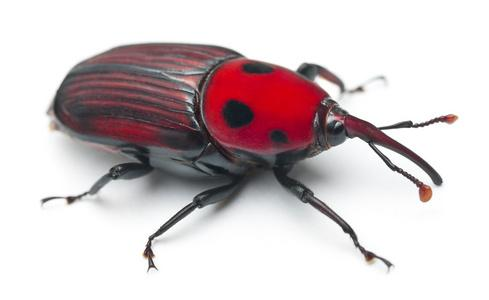Curculionidae: (40, 41, 457, 277)
